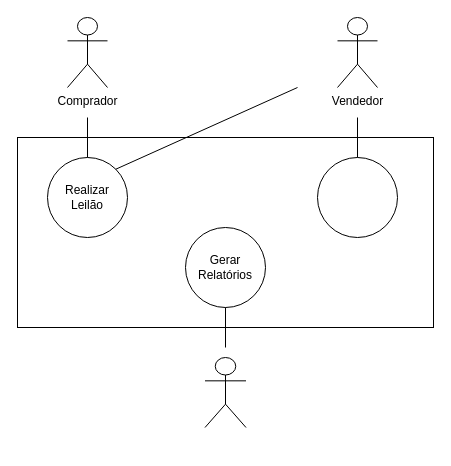
The diagram is 451 pixels wide and 466 high, and some of its shapes have lost their labels. Here are the shapes that lost their labels. From the top down, the centre of each, then its label:
At point (357, 197): "Ofertar Lote de produtos".
At point (225, 392): "Leiloeiro".
